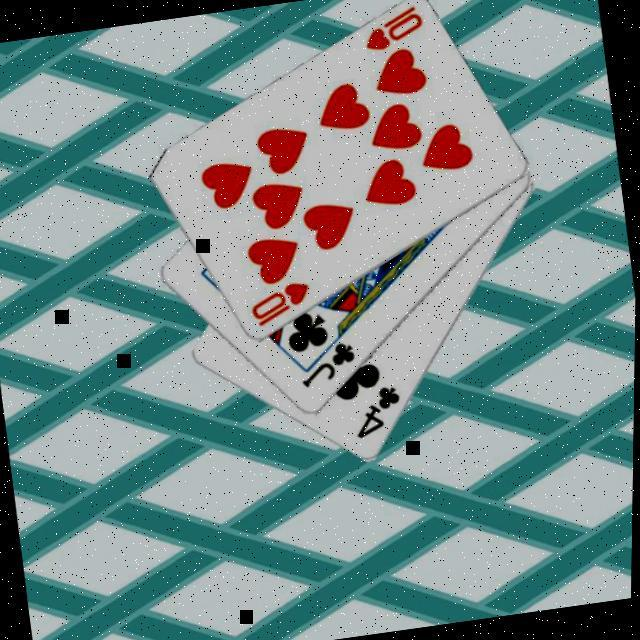10H: (358, 0, 431, 54), (248, 276, 319, 329)
4C: (350, 379, 412, 440)
JC: (296, 336, 365, 390)
